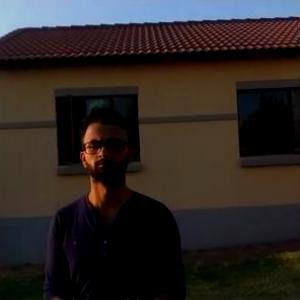follow: (39, 88, 195, 299)
